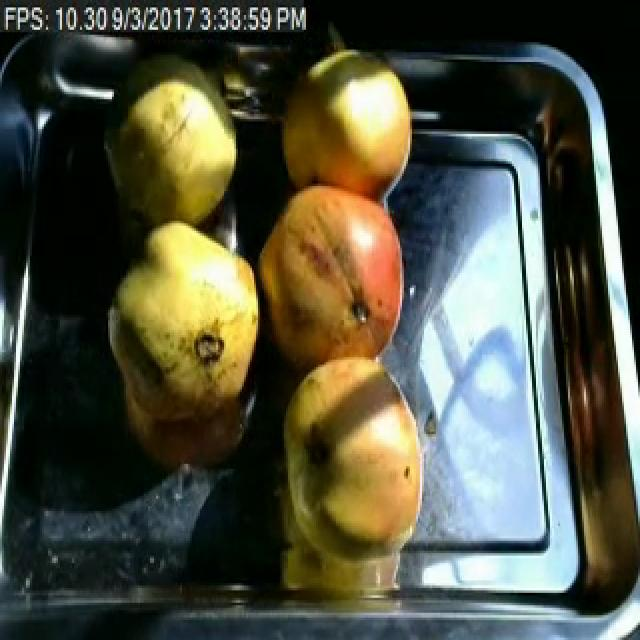fruit: (94, 196, 278, 442), (272, 340, 454, 570), (252, 171, 418, 375), (270, 40, 418, 206)
